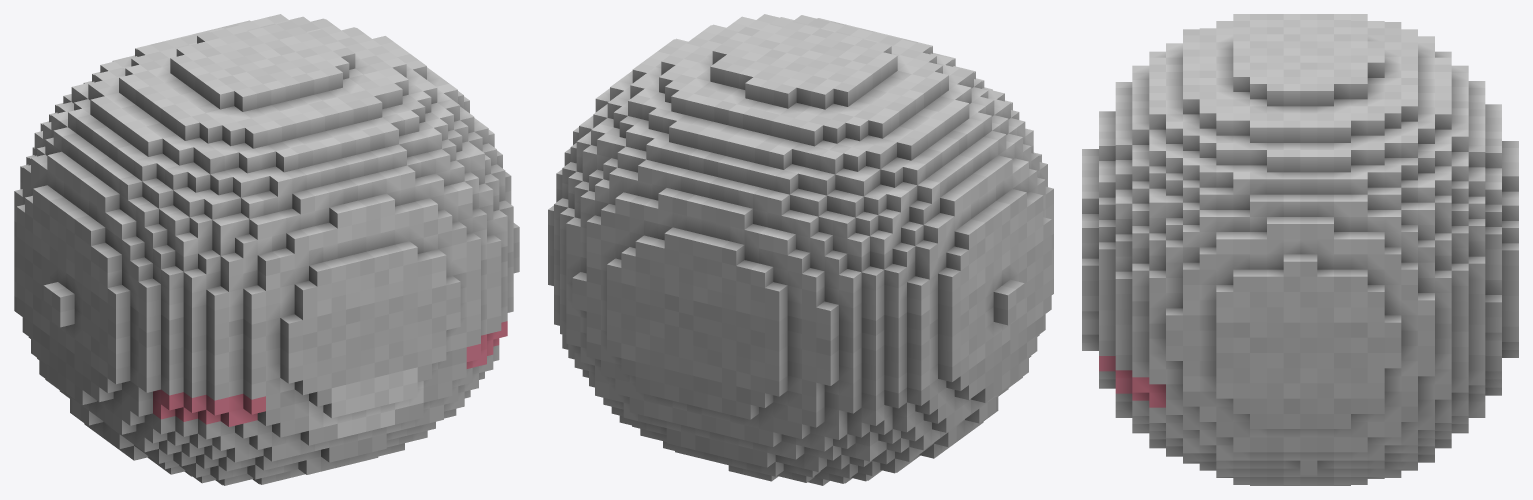
Rendered from head.glb.
3 renders of one model, left to right at view 1: azimuth 30°, elevation 25°; view 2: azimuth 150°, elevation 25°; view 3: azimuth 270°, elevation 25°, orthographic.
Visible parts, largest first — view 1: head; view 2: head; view 3: head.
Part boxes in pixels (x1,y1,x2,y2): head: [14, 14, 519, 485]; head: [548, 14, 1053, 485]; head: [1082, 14, 1518, 485].
Bounding box in the file's own units: 0.6042 × 0.5417 × 0.5417.
